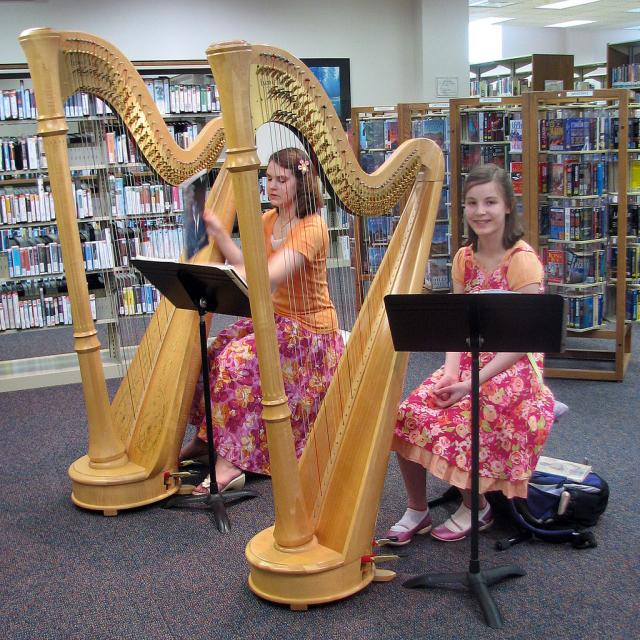harp: (202, 35, 444, 606), (15, 20, 244, 511)
